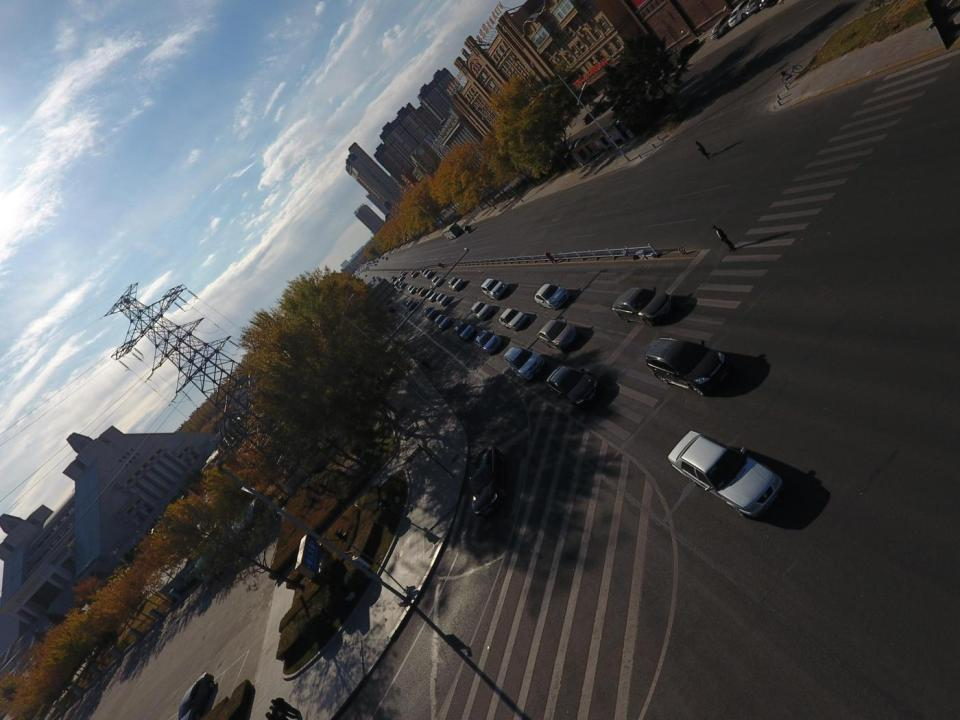bus: (442, 222, 462, 240)
car: (668, 430, 785, 519), (644, 336, 730, 398), (469, 442, 511, 518), (612, 285, 676, 325), (548, 365, 603, 411), (176, 670, 218, 720), (502, 344, 548, 381), (538, 319, 580, 352), (534, 281, 574, 310), (496, 305, 532, 332), (710, 10, 740, 40), (728, 0, 757, 27), (674, 38, 701, 66), (475, 328, 504, 354), (480, 278, 510, 300), (659, 47, 684, 73), (470, 301, 494, 321), (454, 322, 476, 342), (565, 138, 584, 158), (574, 134, 594, 150), (584, 130, 603, 146), (435, 314, 452, 331), (448, 277, 465, 293), (582, 110, 599, 126), (436, 293, 452, 307), (425, 307, 438, 320), (431, 276, 444, 288), (426, 290, 437, 301), (422, 269, 434, 279), (406, 299, 417, 309), (420, 267, 430, 278), (416, 287, 426, 297), (407, 285, 417, 295), (410, 270, 418, 278), (398, 282, 406, 289), (390, 275, 397, 282), (394, 281, 402, 287), (397, 275, 405, 280), (388, 282, 394, 288), (399, 271, 406, 276), (376, 278, 382, 282), (384, 256, 390, 260), (375, 276, 380, 280), (372, 278, 376, 282), (372, 276, 376, 279), (382, 256, 385, 259), (376, 260, 379, 263), (365, 274, 367, 278), (375, 264, 377, 266)
van: (592, 99, 609, 118)
